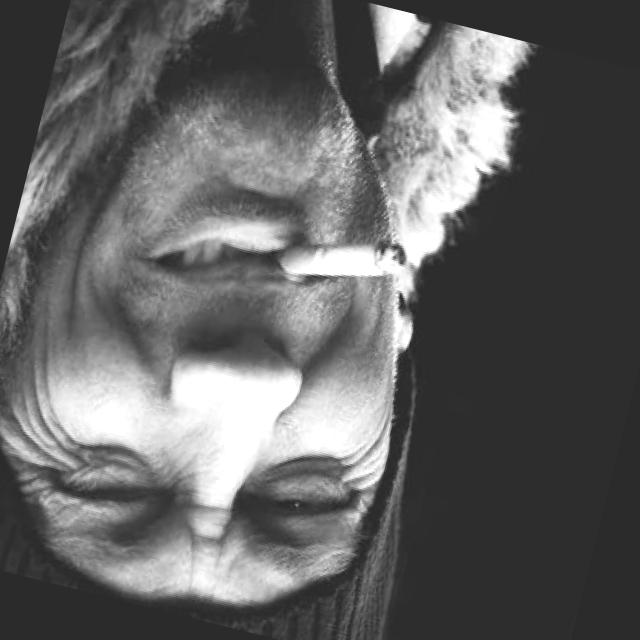smoke: (273, 210, 411, 312)
